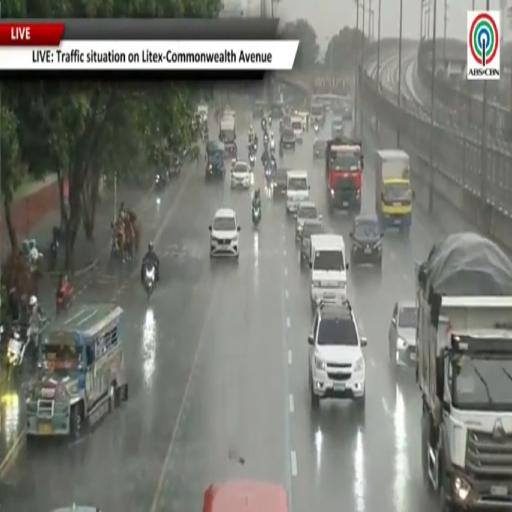car: (309, 300, 366, 410), (203, 479, 288, 511), (388, 301, 418, 368), (350, 215, 384, 268), (209, 208, 240, 259), (300, 220, 324, 267), (295, 202, 322, 241), (231, 162, 251, 188), (273, 168, 289, 199), (280, 126, 296, 150), (313, 139, 326, 158)
jeepney: (26, 304, 127, 437)
motorcycle: (7, 327, 29, 367), (48, 226, 62, 271), (56, 281, 74, 314), (144, 265, 155, 297), (168, 157, 182, 178), (155, 172, 166, 191), (252, 204, 261, 227), (265, 163, 273, 186), (249, 153, 255, 170), (264, 134, 269, 151), (261, 118, 266, 132), (270, 140, 275, 154), (279, 144, 284, 157), (253, 138, 257, 153), (313, 122, 318, 134), (268, 116, 272, 126)
truck: (416, 233, 511, 510), (375, 150, 413, 232), (325, 138, 363, 213), (331, 116, 344, 138)
